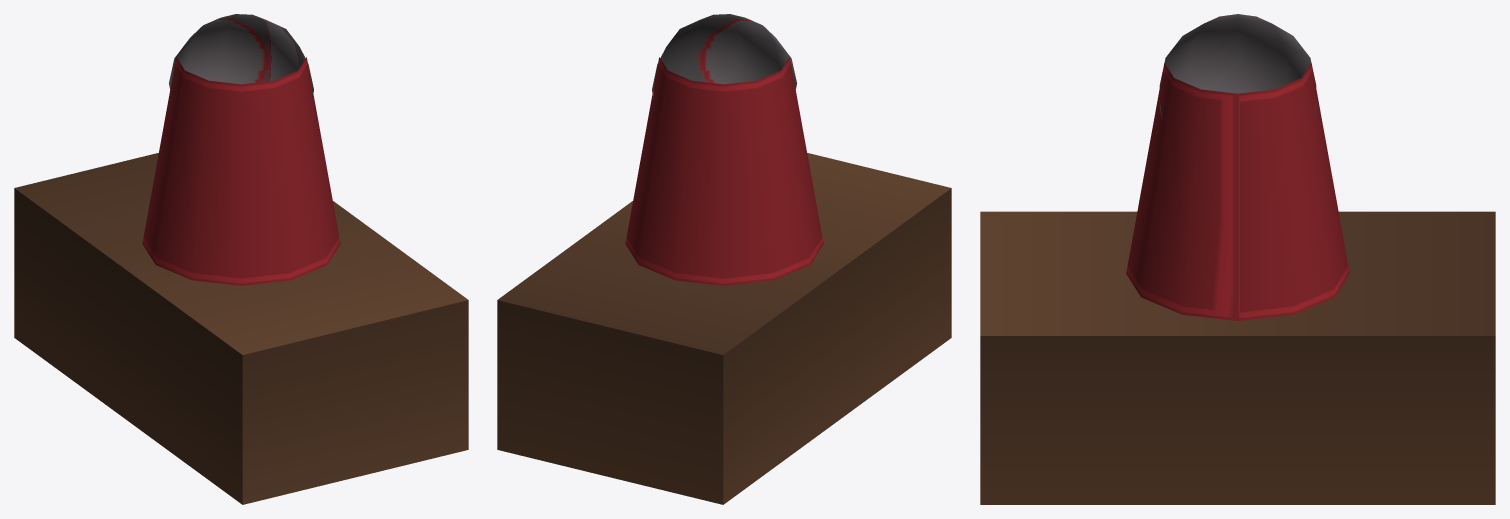
Rendered from barracks_bunk.glb.
3 renders of one model, left to right at view 1: azimuth 30°, elevation 25°; view 2: azimuth 150°, elevation 25°; view 3: azimuth 270°, elevation 25°, orthographic. The views are drawn at different scales.
Visible parts, largest first — view 1: barracks_bunk; view 2: barracks_bunk; view 3: barracks_bunk.
Part boxes in pixels (bbox=[...]): barracks_bunk: bbox=[14, 14, 468, 504]; barracks_bunk: bbox=[497, 14, 951, 504]; barracks_bunk: bbox=[980, 14, 1495, 504].
Size of the model in its own units: 1.2 by 1.89 by 2.1.
Materials: 1 (1 with a texture image).
